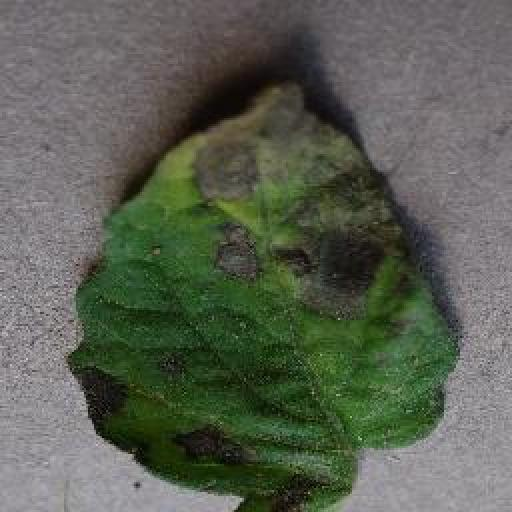disease_tomato: (66, 80, 457, 512)
